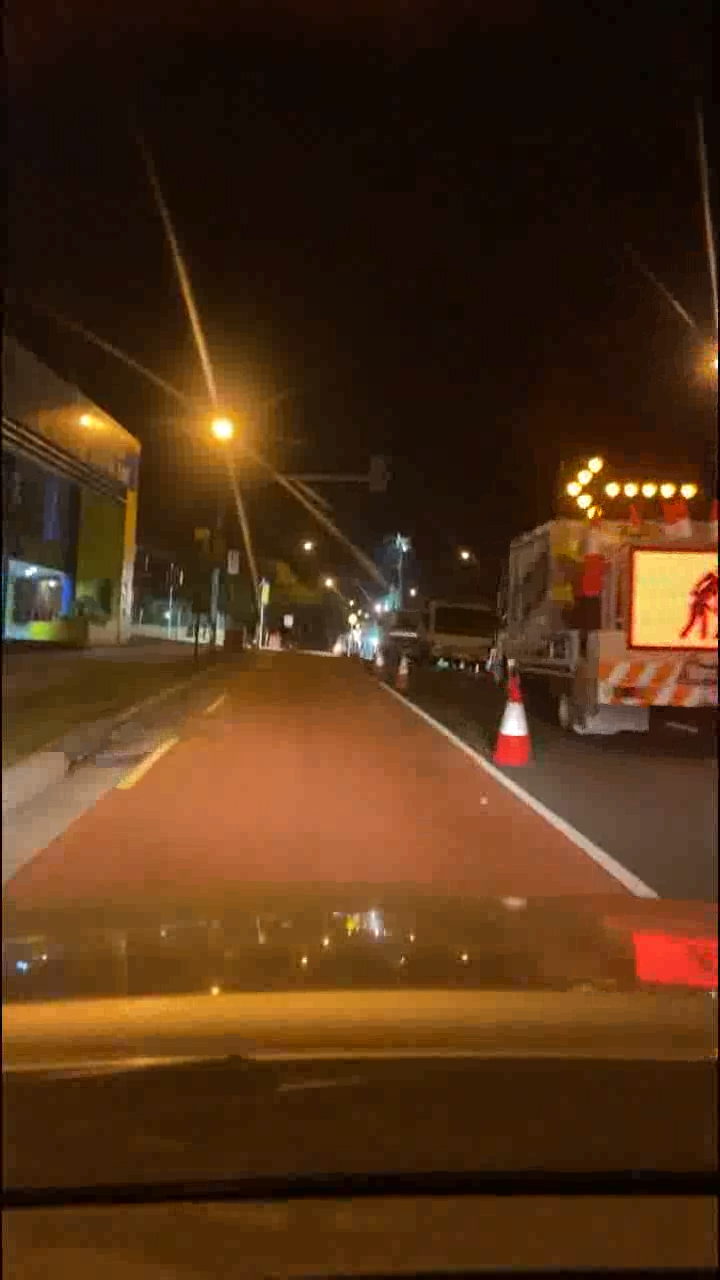road cone: (389, 652, 414, 698)
truck: (500, 465, 718, 719)
